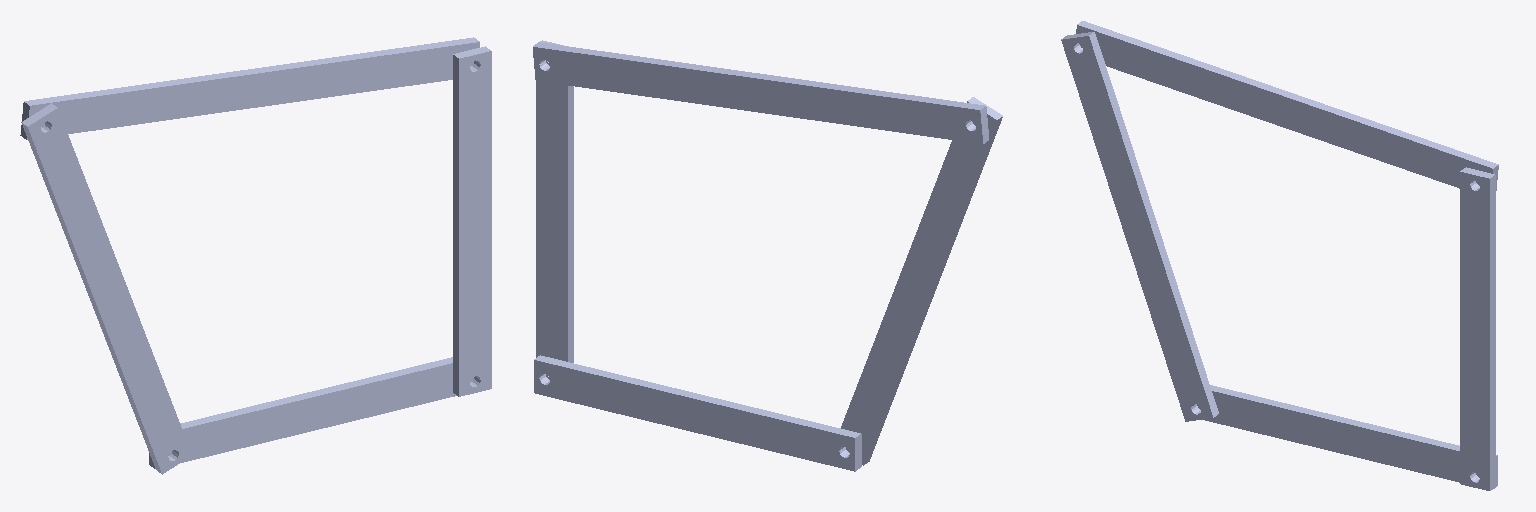
robot.urdf — robot:
<?xml version="1.0" encoding="utf-8"?>
<!--Mentee Robotics LTD-->
<robot name="robot">
  <material name="Steel">
    <color rgba="0.7921568627 0.8196078431 0.9333333333 1" />
  </material>
  <link name="base_link">
    <inertial>
      <origin xyz="5.43588744E-18 0.0025 2.993330088E-19" rpy="0 0 0" />
      <mass value="0.01105365046" />
      <inertia ixx="2.336591423E-07" ixy="-6.462348536E-25" ixz="1.982539192E-38" iyy="2.034196116E-05" iyz="7.030123981E-41" izz="2.015435889E-05" />
    </inertial>
    <visual>
      <origin xyz="0 0 0" rpy="0 0 0" />
      <geometry>
        <mesh filename="../meshes/base_link/component_0_21.stl" />
      </geometry>
      <material name="Steel" />
    </visual>
  </link>
  <joint name="joint_1" type="revolute">
    <origin xyz="0.07 0 0" rpy="1.570796327 -1.570796327 0" />
    <parent link="base_link" />
    <child link="link1" />
    <axis xyz="0 0 1" />
    <limit lower="-1.57" upper="1.57" velocity="1" effort="1" />
  </joint>
  <link name="link1">
    <inertial>
      <origin xyz="0.07 2.775557562E-17 0.0035" rpy="0 0 0" />
      <mass value="0.01105365046" />
      <inertia ixx="2.336591423E-07" ixy="2.144966407E-38" ixz="-6.462348545E-25" iyy="2.015435889E-05" iyz="-1.029069951E-35" izz="2.034196116E-05" />
    </inertial>
    <visual>
      <origin xyz="0 0 0" rpy="0 0 0" />
      <geometry>
        <mesh filename="../meshes/link1/component_0_23.stl" />
      </geometry>
      <material name="Steel" />
    </visual>
  </link>
  <joint name="joint_2" type="revolute">
    <origin xyz="0.14 0 0.001" rpy="0 0 1.570796327" />
    <parent link="link1" />
    <child link="link_2" />
    <axis xyz="0 0 1" />
    <limit lower="-3.14" upper="3.14" velocity="1" effort="1" />
  </joint>
  <link name="link_2">
    <inertial>
      <origin xyz="0.09952781548 -0.009706386904 -0.0035" rpy="0 0 0" />
      <mass value="0.01555365046" />
      <inertia ixx="8.514501219E-07" ixy="5.373436525E-06" ixz="2.083635372E-23" iyy="5.542581025E-05" iyz="-7.765114848E-25" izz="5.62124535E-05" />
    </inertial>
    <visual>
      <origin xyz="0 0 0" rpy="0 0 0" />
      <geometry>
        <mesh filename="../meshes/link_2/component_0_25.stl" />
      </geometry>
      <material name="Steel" />
    </visual>
  </link>
  <joint name="joint_3" type="revolute">
    <origin xyz="0.199055631 -0.01941277381 -0.001" rpy="0 0 1.473579395" />
    <parent link="link_2" />
    <child link="link_3" />
    <axis xyz="0 0 1" />
    <limit lower="-3.14" upper="3.14" velocity="1" effort="1" />
  </joint>
  <link name="link_3">
    <inertial>
      <origin xyz="0.07646394167 0.037125 0.0035" rpy="0 0 0" />
      <mass value="0.01330365046" />
      <inertia ixx="6.914951565E-06" ixy="-1.366447695E-05" ixz="-1.32213867E-22" iyy="2.842436629E-05" iyz="-5.62327778E-23" izz="3.528388598E-05" />
    </inertial>
    <visual>
      <origin xyz="0 0 0" rpy="0 0 0" />
      <geometry>
        <mesh filename="../meshes/link_3/component_0_24.stl" />
      </geometry>
      <material name="Steel" />
    </visual>
  </link>
  <joint name="joint_4" type="fixed">
    <origin xyz="0.1529278833 0.07425 0.001" rpy="0 0 2.02279538" />
    <parent link="link_3" />
    <child link="link_4" />
  </joint>
  <link name="link_4">
    <inertial>
      <origin xyz="0 0 0" rpy="0 0 0" />
      <mass value="0.0001" />
      <inertia ixx="1E-07" ixy="0" ixz="0" iyy="1E-07" iyz="0" izz="1E-07" />
    </inertial>
  </link>
  <joint name="joint_4_" type="fixed">
    <origin xyz="-0.07 -0.001 0" rpy="1.570796327 -0.354782122 0" />
    <parent link="base_link" />
    <child link="link_4_" />
  </joint>
  <link name="link_4_">
    <inertial>
      <origin xyz="0 0 0" rpy="0 0 0" />
      <mass value="0.0001" />
      <inertia ixx="1E-07" ixy="0" ixz="0" iyy="1E-07" iyz="0" izz="1E-07" />
    </inertial>
  </link>
</robot>

--- What the picture shows (computed from the rendered views, not written in the file) ---
Views: 3 orthographic renders of the robot side by side, from view 1: azimuth 30°, elevation 25°; view 2: azimuth 150°, elevation 25°; view 3: azimuth 330°, elevation 25°.
Model robot with 6 links and 5 joints (3 revolute, 2 fixed), rooted at base_link, posed every joint at zero.
Links seen in each view (by area): view 1: link_2, link_3, link1, base_link; view 2: link_2, link_3, base_link, link1; view 3: link_2, link_3, link1, base_link.
Link boxes in pixels (<box>): link_2: <box>20,37,479,139</box>; link_3: <box>21,103,192,474</box>; link1: <box>453,46,491,396</box>; base_link: <box>149,357,473,468</box>; link_2: <box>533,42,988,143</box>; link_3: <box>841,97,1002,465</box>; base_link: <box>534,355,861,471</box>; link1: <box>536,40,573,379</box>; link_2: <box>1076,21,1498,190</box>; link_3: <box>1061,32,1218,421</box>; link1: <box>1460,167,1495,490</box>; base_link: <box>1197,385,1497,488</box>.
Size in the robot's own frame: 0.2153 by 0.011 by 0.1749 metres.
4 mesh visuals loaded from 4 distinct referenced files (4 binary STL).
